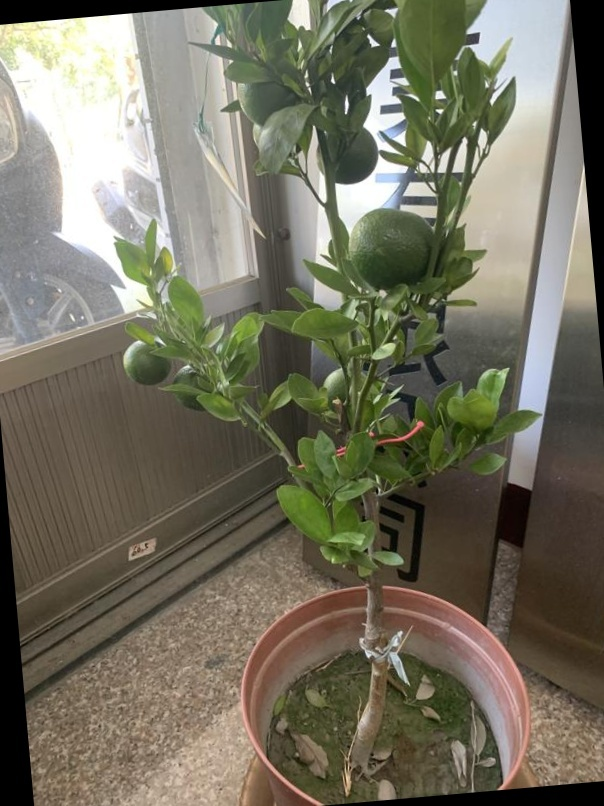Tangerine: (351, 207, 438, 289), (118, 337, 175, 384)
